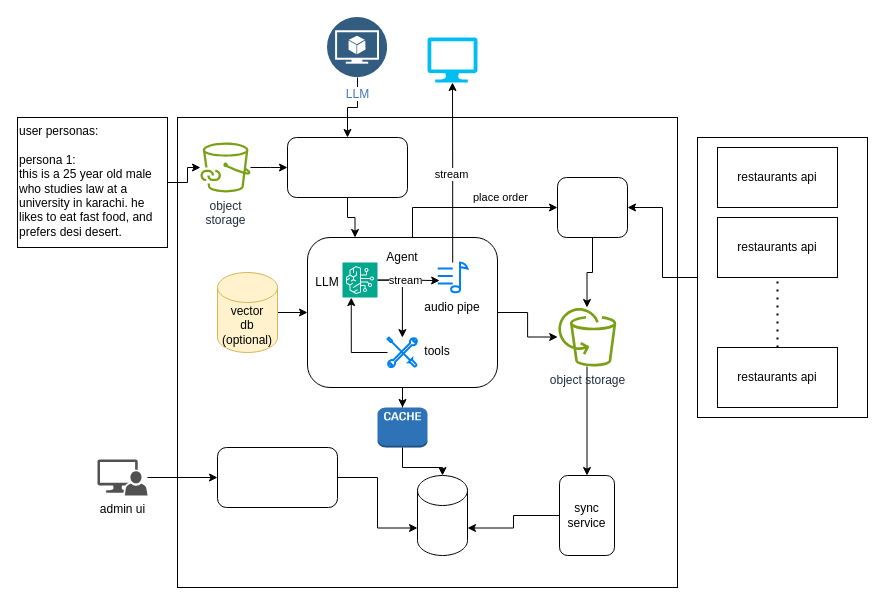
Image size: 885x605. Some labels were removed from this diagram. Each missing label, with the centre of its shape:
analytics service: the point at 277,477
ordering ui (beta): the point at 452,59
RDS: the point at 442,515
restaurants api adapter: the point at 592,207
testing service: the point at 347,167
